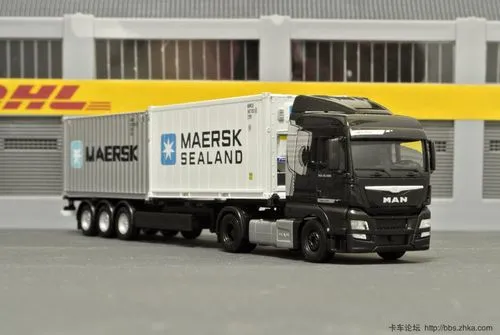bigtruck: (41, 75, 451, 279)
